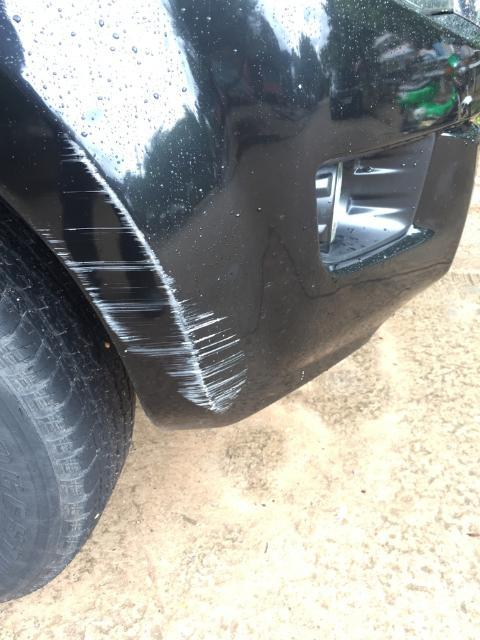scratch: (39, 123, 255, 418)
